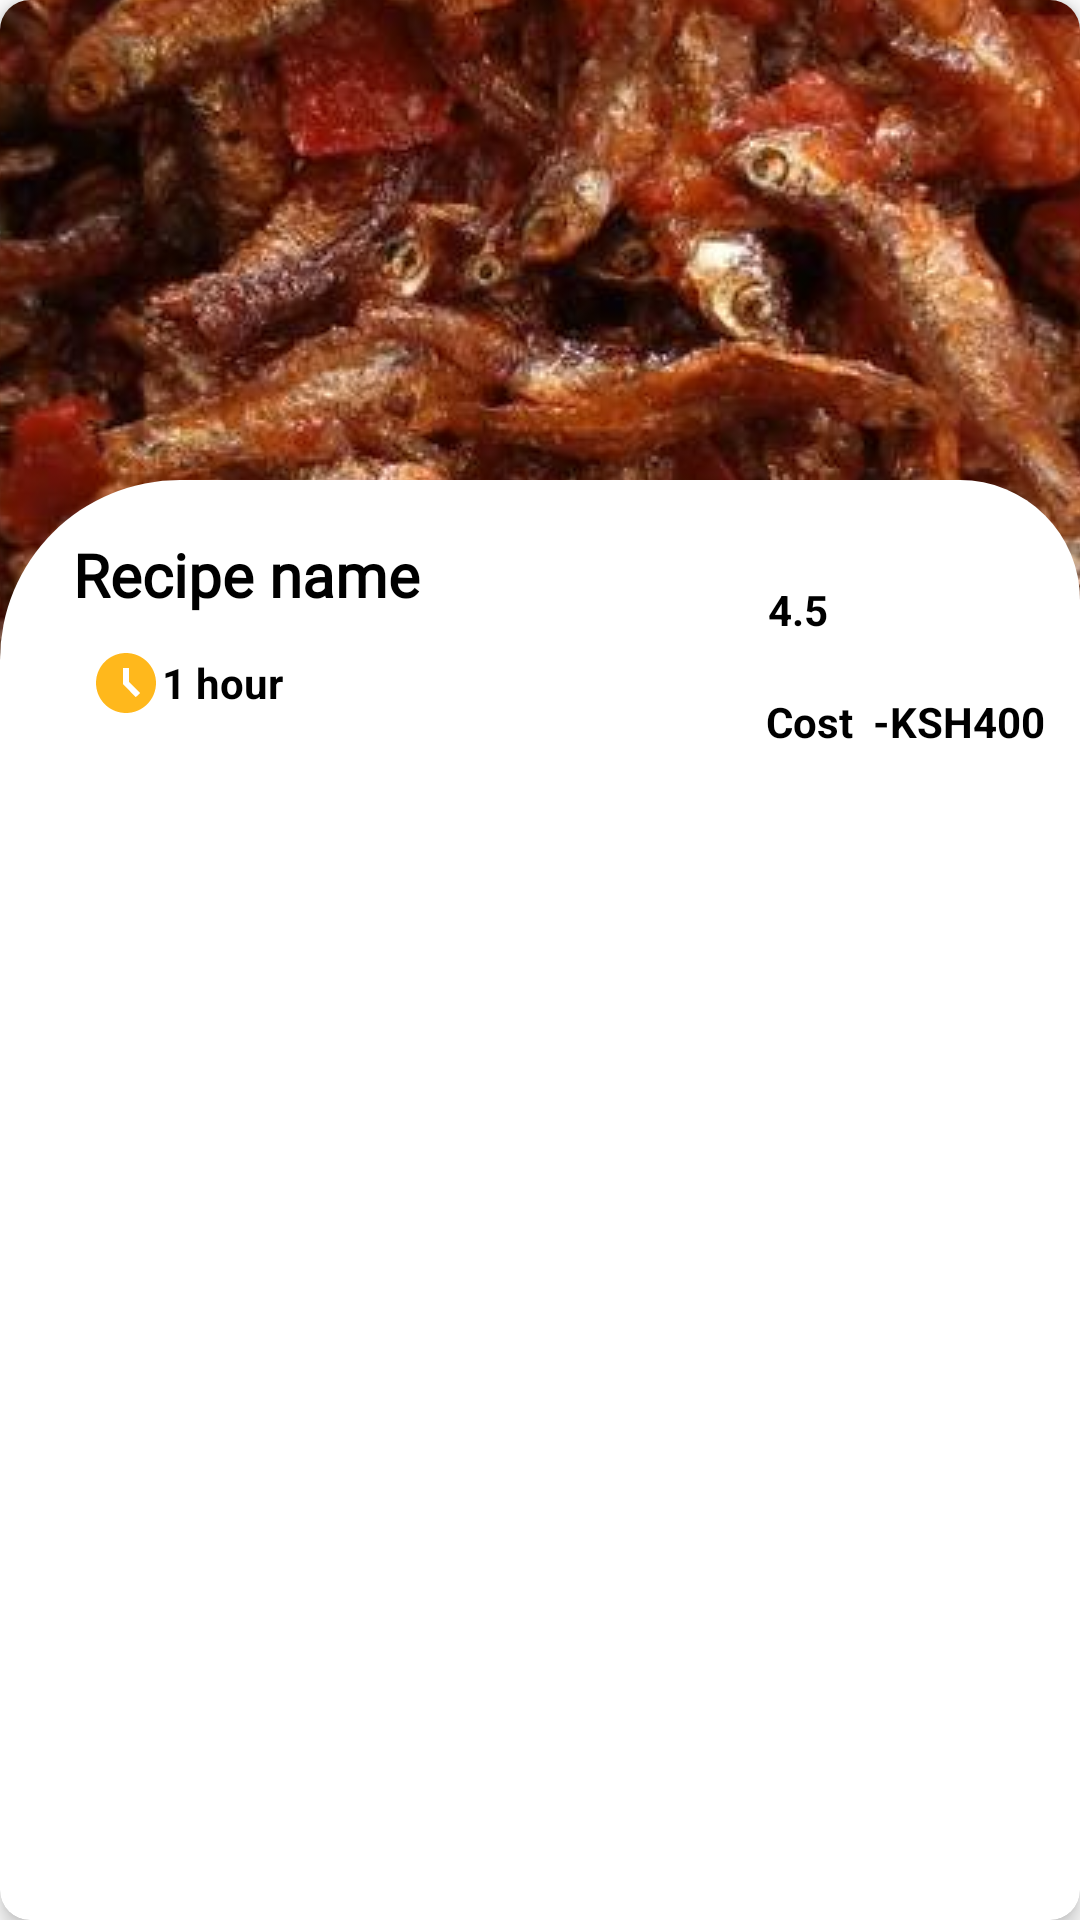

Where to tap for icons on this 1080×1920 app screen, as point (x, y):
time: point (126, 683)
